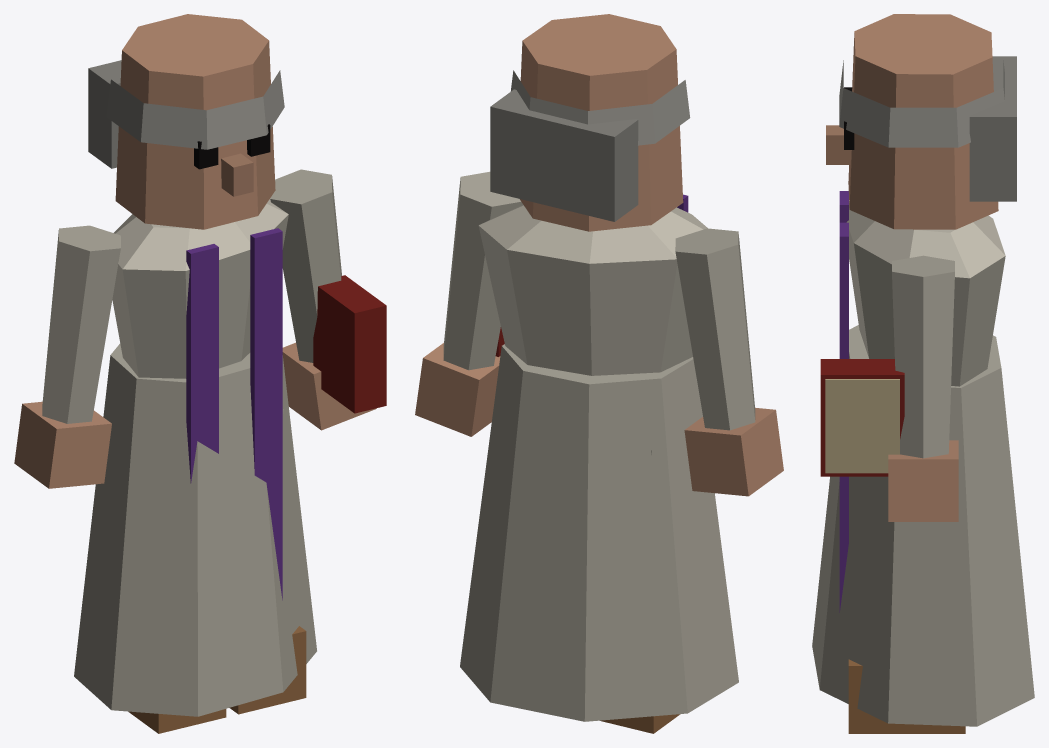
Rendered from priest.glb.
The picture shows the model from 3 angles, left to right: view 1: azimuth 30°, elevation 25°; view 2: azimuth 150°, elevation 25°; view 3: azimuth 270°, elevation 25°; orthographic projection.
Visible parts, largest first — view 1: priest_torso, priest_head, priest_arm_r, priest_arm_l, priest_book, priest_leg_l, priest_leg_r; view 2: priest_torso, priest_head, priest_arm_r, priest_arm_l, priest_leg_r; view 3: priest_torso, priest_head, priest_arm_l, priest_book, priest_leg_l.
Part boxes in pixels (x1,y1,x2,y2): priest_torso: (74, 198, 316, 716); priest_head: (88, 14, 284, 229); priest_arm_r: (14, 225, 120, 488); priest_arm_l: (270, 169, 376, 430); priest_book: (313, 275, 386, 413); priest_leg_l: (229, 409, 306, 714); priest_leg_r: (128, 709, 226, 733); priest_torso: (460, 194, 738, 721); priest_head: (490, 14, 690, 231); priest_arm_r: (675, 228, 783, 496); priest_arm_l: (415, 171, 522, 436); priest_leg_r: (600, 450, 680, 733); priest_torso: (812, 191, 1034, 726); priest_head: (826, 14, 1016, 229); priest_arm_l: (888, 255, 958, 521); priest_book: (820, 359, 904, 476); priest_leg_l: (848, 659, 965, 733).
Bounding box in the file's own units: 0.821 × 1.54 × 0.4759.
